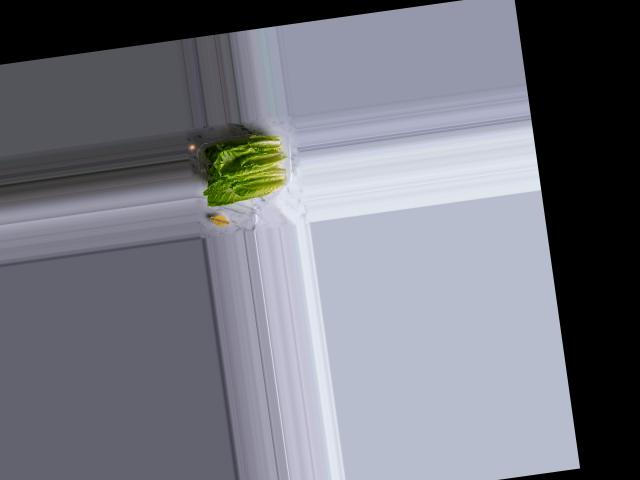lettuce: (195, 128, 292, 211)
